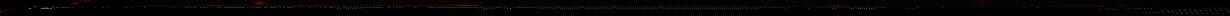Blue cone: (23, 7, 29, 8), (9, 9, 14, 10), (32, 6, 36, 7)
Yellow cone: (252, 1, 268, 6), (828, 5, 842, 7)
